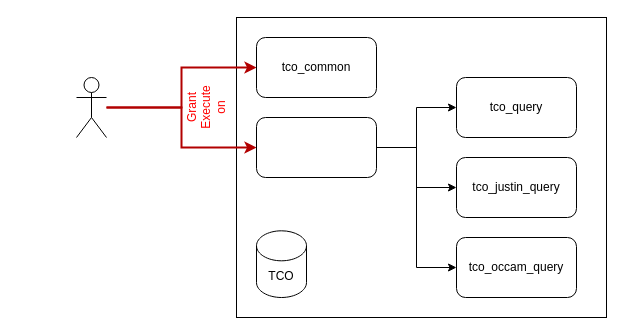
This 624x335 diagram has some shape labels left out. The centre of each missing label's shape, as x and y in pixels:
"tco_rest_v2" goes at point 316,147.
"TCOORDS_PROXY_USER" goes at point 91,107.
